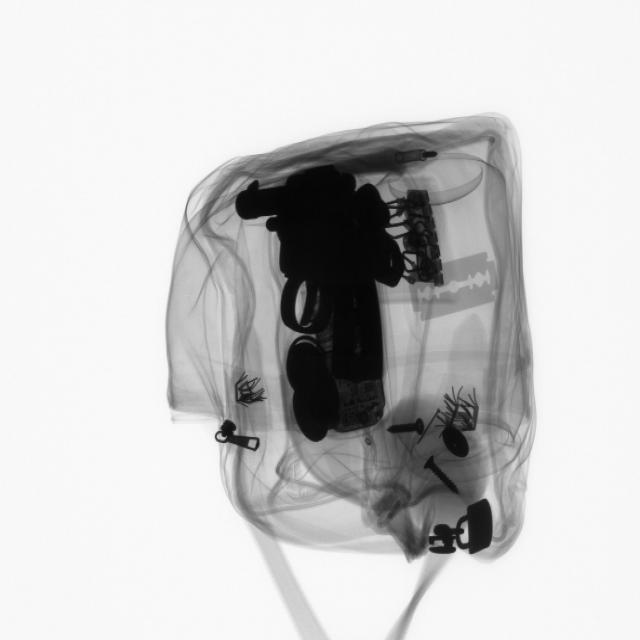BLADE: (405, 245, 507, 339)
GUN: (237, 168, 406, 391)
SCREW: (421, 450, 462, 501), (382, 414, 437, 449)
